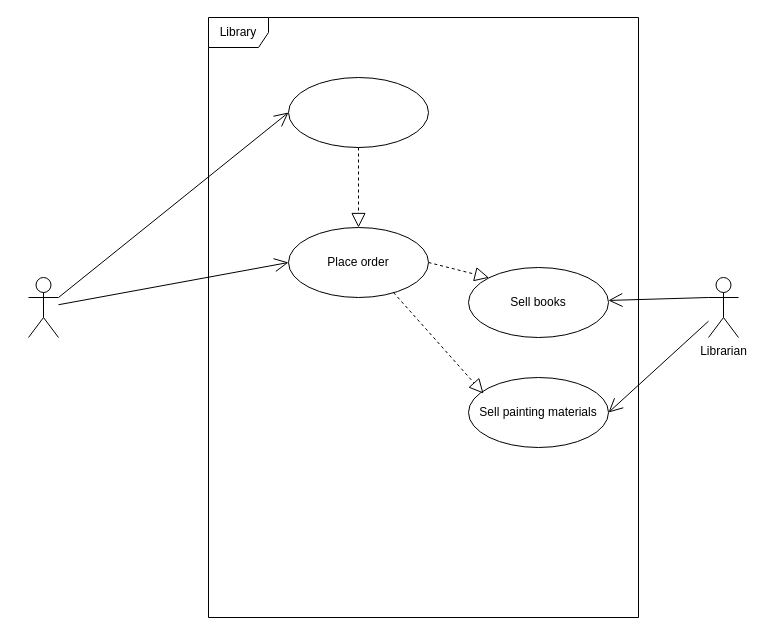
The diagram is 764 pixels wide and 635 high, and some of its shapes have lost their labels. The box of each missing label's shape, as (x1, y1, x2, y2) in pixels:
Add to wishlist: (288, 76, 428, 148)
Customer: (28, 276, 58, 338)
